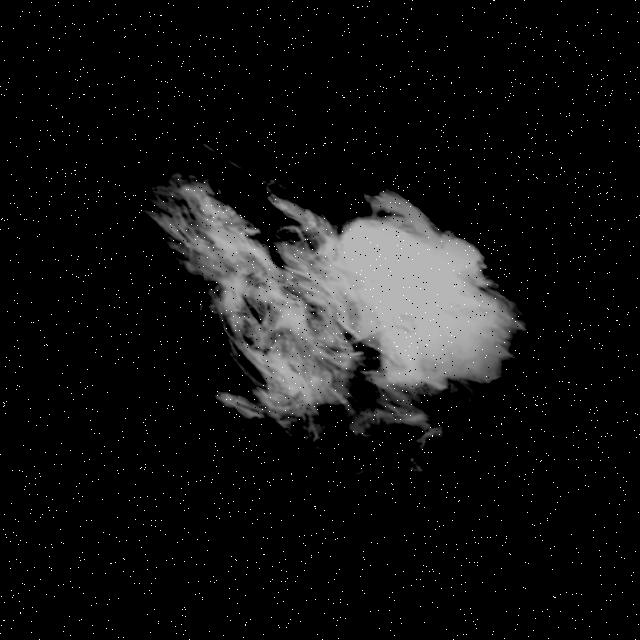Smoke: (30, 76, 574, 542)
